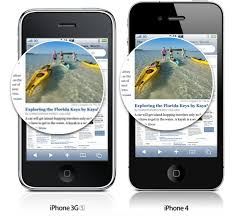iphone: (14, 5, 117, 196), (125, 1, 228, 191)
iphone4: (14, 4, 118, 195), (123, 1, 227, 191)
